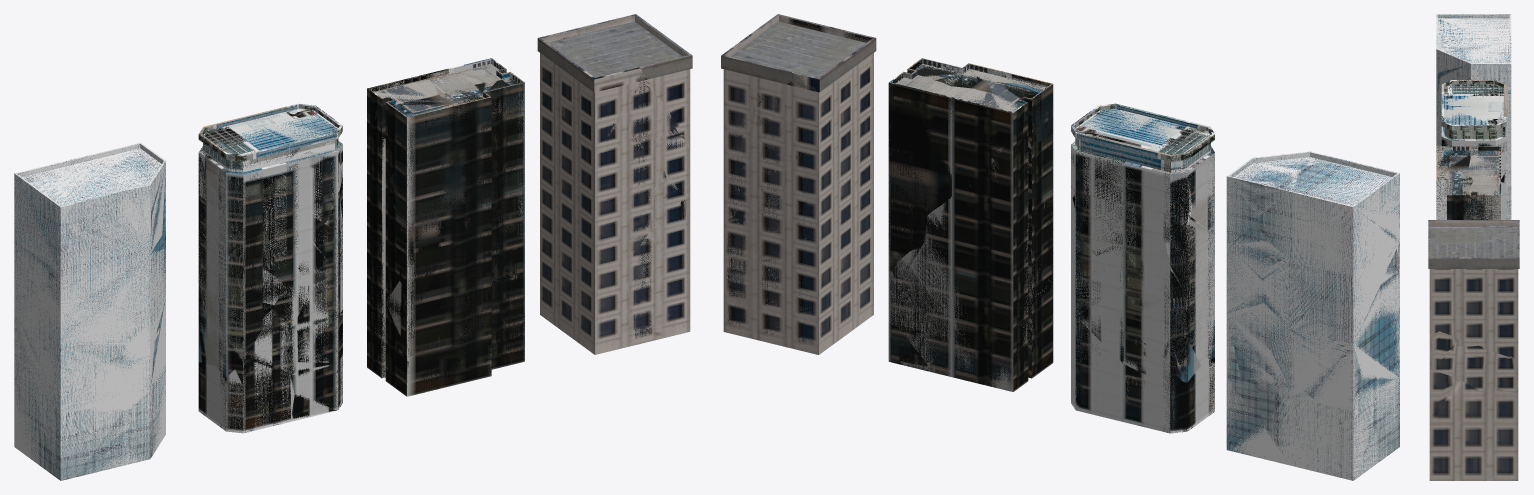
File: Shattered_Buildings.fbx
3 renders of one model, left to right at view 1: azimuth 30°, elevation 25°; view 2: azimuth 150°, elevation 25°; view 3: azimuth 270°, elevation 25°, orthographic. The views are drawn at different scales.
Parts seen in each view (by area): view 1: B_18, B_09, B_05, B_16, shard11, shard9, shard3, shard1, shard2, shard8, shard13, shard7 (+9 smaller); view 2: B_09, B_18, B_05, B_16, shard2, shard14, shard6, shard3, shard12, shard17, shard9, shard4 (+6 smaller); view 3: shard17, shard18, B_09, shard20, B_05, B_16, B_18, shard6, shard14, shard4, shard11, shard2 (+2 smaller).
Part boxes in pixels (x1,y1,x2,y2): B_18: (537, 14, 692, 354); B_09: (14, 142, 165, 480); B_05: (367, 58, 524, 396); B_16: (198, 103, 342, 433); shard11: (386, 78, 524, 363); shard9: (198, 140, 341, 376); shard3: (14, 275, 131, 480); shard1: (49, 201, 165, 347); shard2: (14, 153, 132, 364); shard8: (198, 276, 307, 432); shard13: (393, 237, 524, 395); shard7: (291, 175, 342, 418); B_09: (1226, 151, 1399, 480); B_18: (721, 14, 876, 354); B_05: (888, 58, 1053, 391); B_16: (1071, 103, 1214, 433); shard2: (1255, 157, 1399, 399); shard14: (888, 68, 1027, 271); shard6: (1071, 104, 1195, 290); shard3: (1258, 263, 1399, 480); shard12: (888, 141, 1046, 391); shard17: (723, 172, 818, 354); shard9: (1142, 111, 1214, 382); shard4: (1226, 151, 1331, 379); shard17: (1429, 369, 1518, 480); shard18: (1428, 233, 1519, 361); B_09: (1436, 14, 1511, 219); shard20: (1428, 220, 1519, 395); B_05: (1436, 146, 1500, 219); B_16: (1441, 80, 1506, 219); B_18: (1428, 220, 1519, 258); shard6: (1441, 80, 1506, 182); shard14: (1465, 146, 1500, 219); shard4: (1436, 42, 1511, 200); shard11: (1436, 146, 1472, 219); shard2: (1436, 14, 1511, 56).
Bounding box in the file's own units: 0.4025 × 0.1713 × 0.0631.
Materials: 3 (1 with a texture image).
